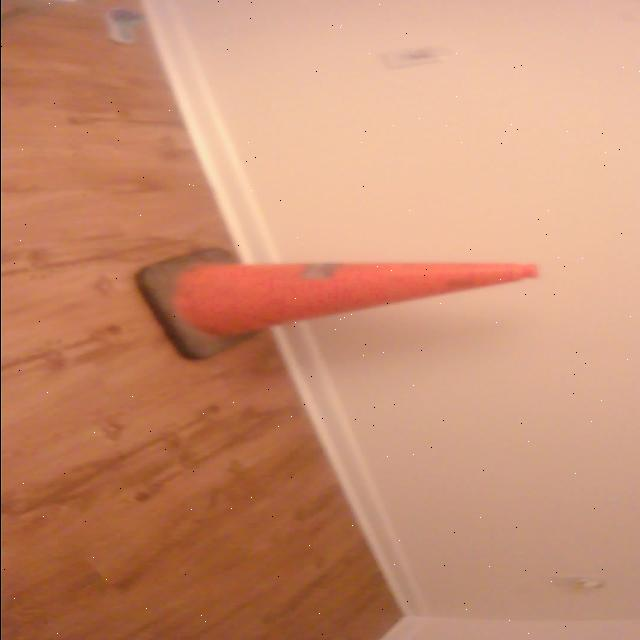traffic cone: (131, 244, 548, 364)
